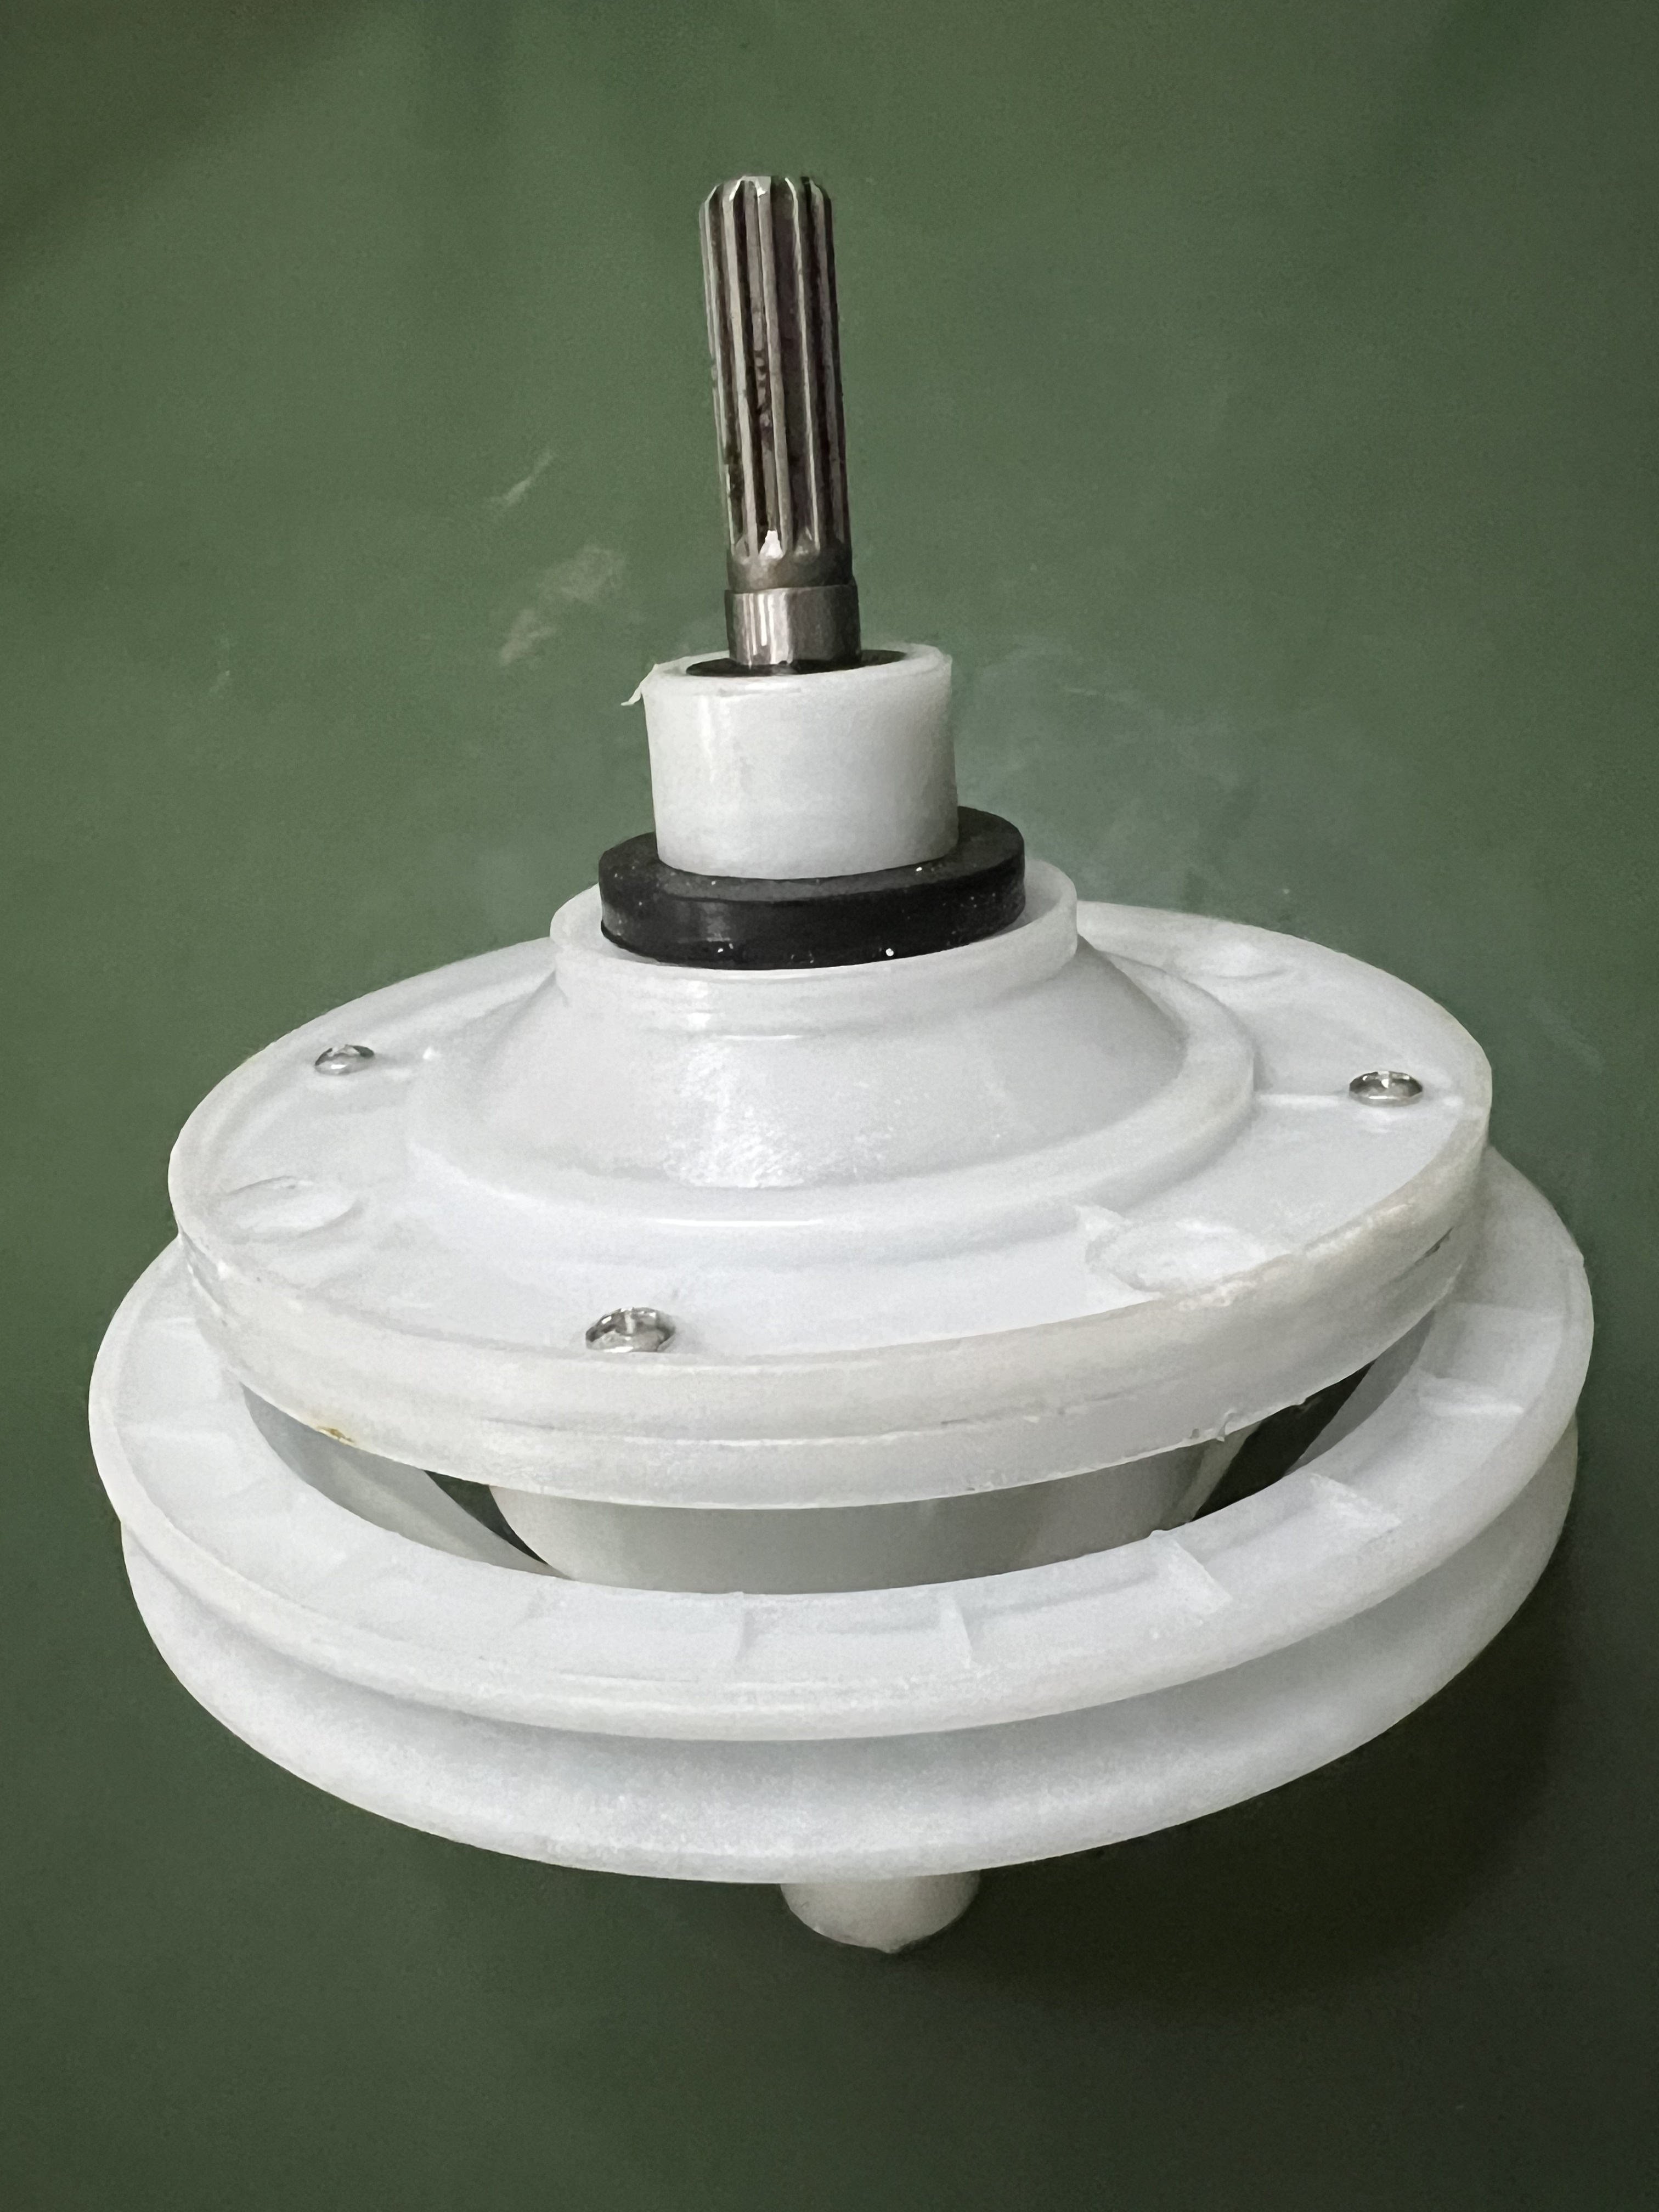gear_box_circle: (101, 167, 1598, 1942)
